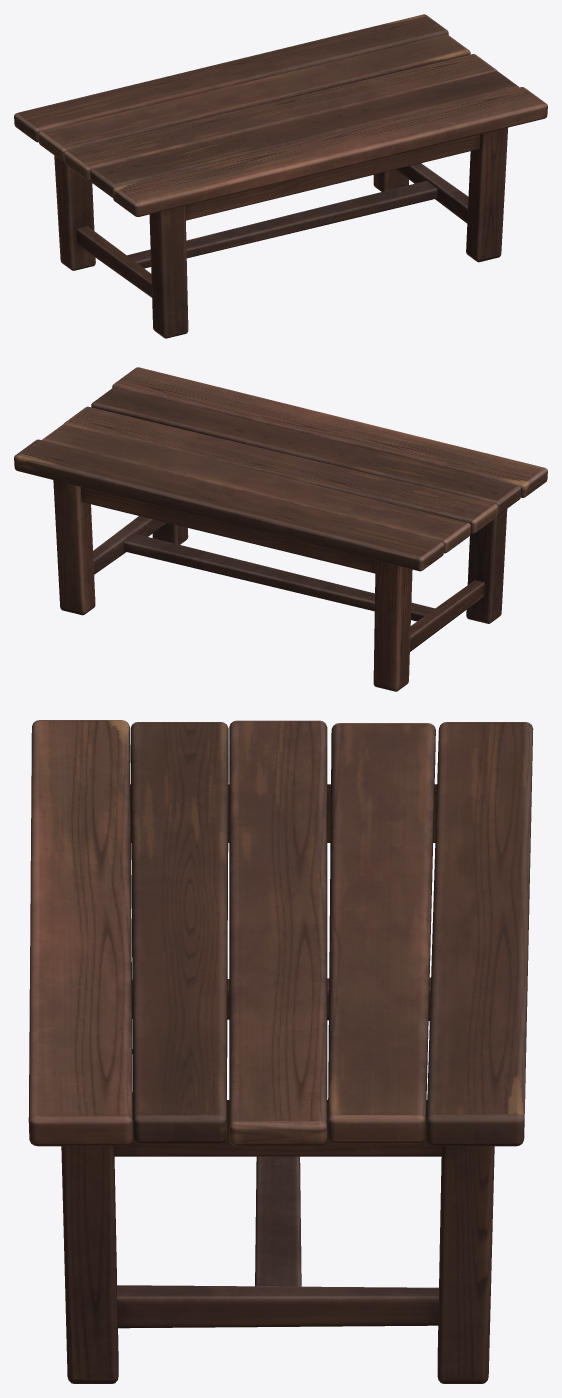
File: SM_MainTable.fbx
3 renders of one model, top to bottom at view 1: azimuth 30°, elevation 25°; view 2: azimuth 150°, elevation 25°; view 3: azimuth 270°, elevation 25°, orthographic. The views are drawn at different scales.
Parts seen in each view (by area): view 1: SM_MainTable_LOD0; view 2: SM_MainTable_LOD0; view 3: SM_MainTable_LOD0.
Part boxes in pixels (left/top/right/bottom): SM_MainTable_LOD0: left=14, top=14, right=547, bottom=338; SM_MainTable_LOD0: left=14, top=367, right=547, bottom=691; SM_MainTable_LOD0: left=28, top=720, right=533, bottom=1383.
Size of the model in its own units: 224 by 119 by 79.11.
Materials: 1 (1 with a texture image).
